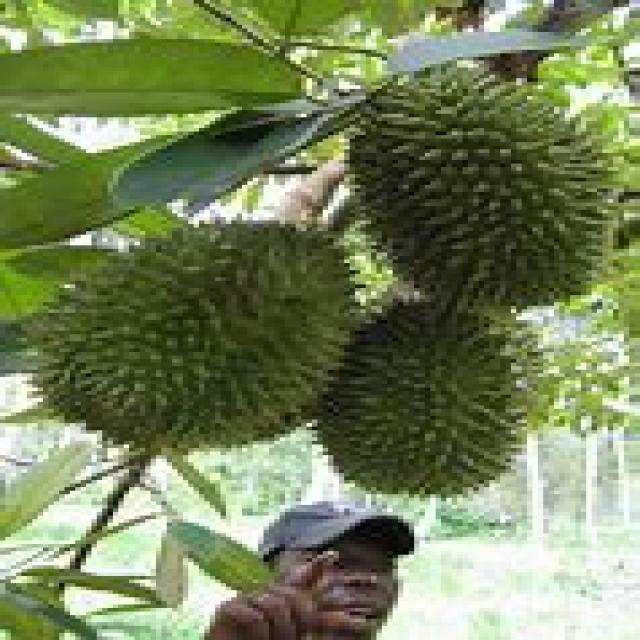immature: (24, 215, 364, 456), (343, 62, 623, 314), (310, 299, 552, 499)
